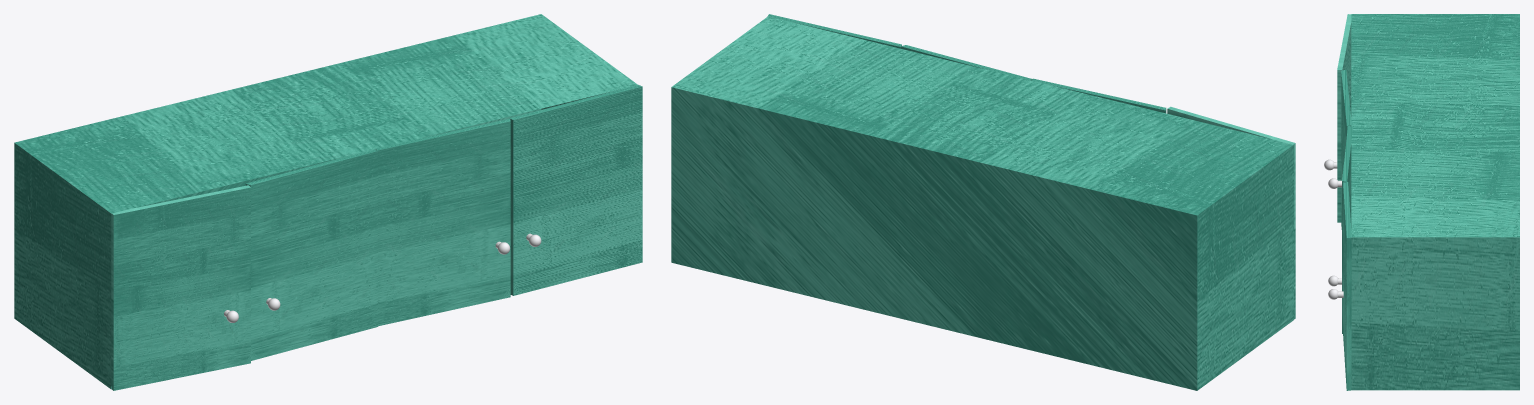
The model's file is Alacena.obj.
The picture shows the model from 3 angles, left to right: view 1: azimuth 30°, elevation 25°; view 2: azimuth 150°, elevation 25°; view 3: azimuth 270°, elevation 25°; orthographic projection. The views are drawn at different scales.
Visible parts, largest first — view 1: Alacena:pasted__pasted__pCylinder2; view 2: Alacena:pasted__pasted__pCylinder2; view 3: Alacena:pasted__pasted__pCylinder2.
Boxes of the visible parts, x1=… form: Alacena:pasted__pasted__pCylinder2: x1=14, y1=14, x2=642, y2=390; Alacena:pasted__pasted__pCylinder2: x1=671, y1=14, x2=1295, y2=390; Alacena:pasted__pasted__pCylinder2: x1=1324, y1=14, x2=1519, y2=390.
Bounding box in the file's own units: 19.75 × 6.28 × 7.29.
Materials: 2 (2 with a texture image).
